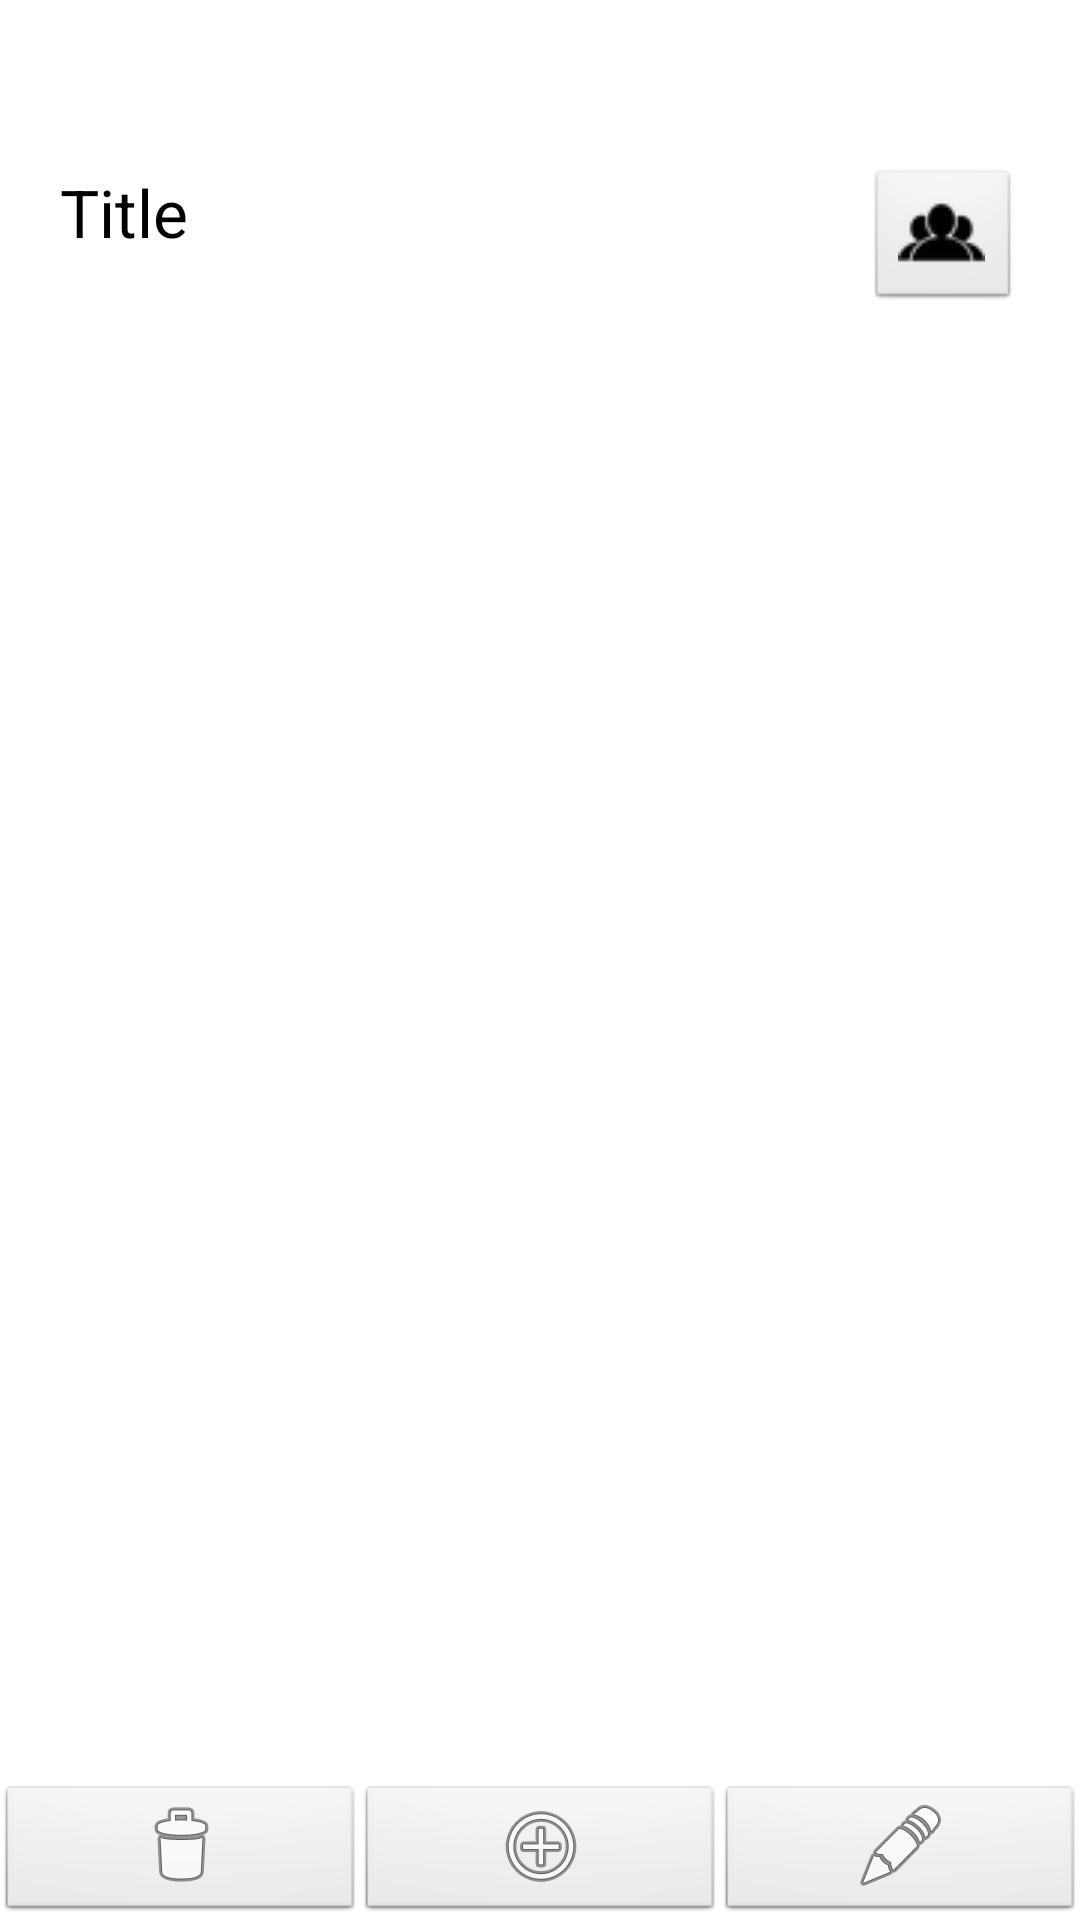

Named icons in this screenshot (1080px×1920px) and their bounding boxes, (x1, y1, x2, y2):
add: (364, 1786, 715, 1911)
delete: (4, 1786, 355, 1911)
edit: (724, 1786, 1075, 1911)
groups: (874, 170, 1012, 300)
